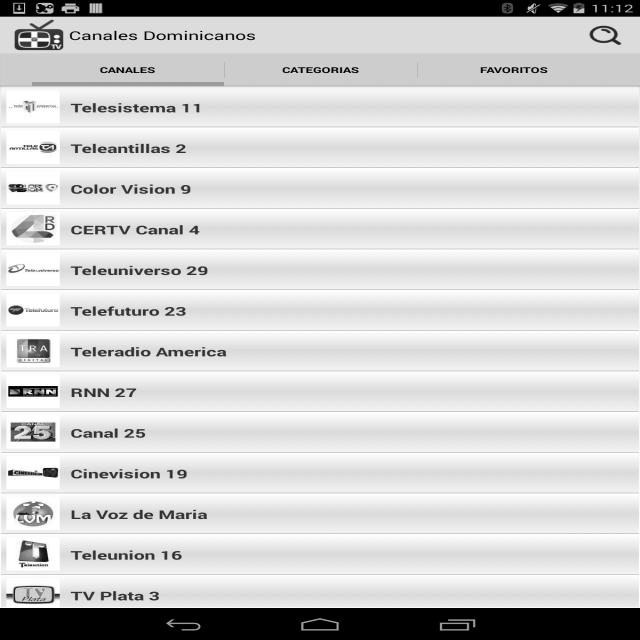ImageView: (1, 86, 65, 126), (1, 128, 65, 168), (1, 168, 65, 208), (1, 208, 65, 248), (1, 250, 65, 290), (1, 290, 65, 330), (1, 330, 65, 370), (1, 372, 65, 412), (1, 412, 65, 452), (1, 452, 65, 492), (1, 494, 65, 534), (1, 534, 65, 574), (1, 574, 65, 614), (14, 19, 64, 52)
TextView: (69, 27, 256, 43), (70, 343, 228, 360), (571, 16, 640, 54), (70, 99, 204, 116), (70, 262, 209, 278), (70, 221, 200, 238), (70, 506, 208, 522), (70, 465, 188, 482), (70, 181, 192, 197), (70, 140, 188, 156), (70, 303, 188, 319), (70, 547, 183, 563), (70, 587, 160, 604), (71, 425, 146, 441), (70, 384, 137, 400), (282, 64, 360, 76), (480, 64, 548, 76), (100, 64, 156, 76)
